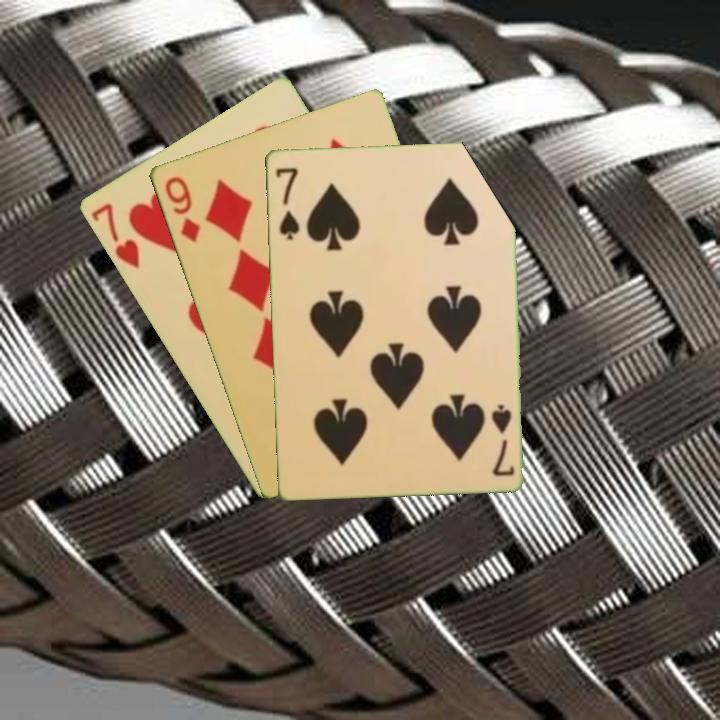7h: (87, 199, 142, 271)
7s: (487, 400, 517, 479), (272, 163, 301, 242)
9d: (160, 172, 203, 246)
